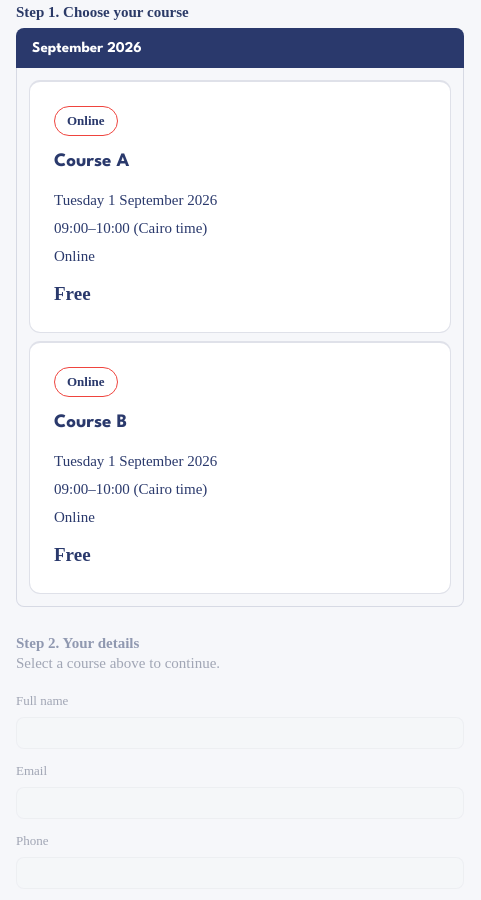
RegistrationExperience — step 1 / step 2 flow › "Change course" returns to the card grid
The width and height of the screenshot is (481, 900).
Click the text "Course A": (92, 162) x1=54 y1=153 x2=129 y2=170
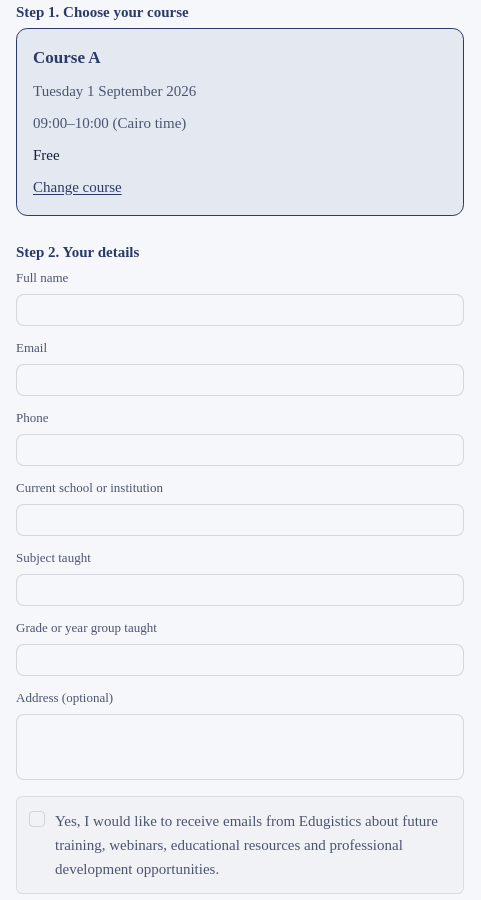
Click the button "Change course": (77, 187) x1=33 y1=175 x2=122 y2=199
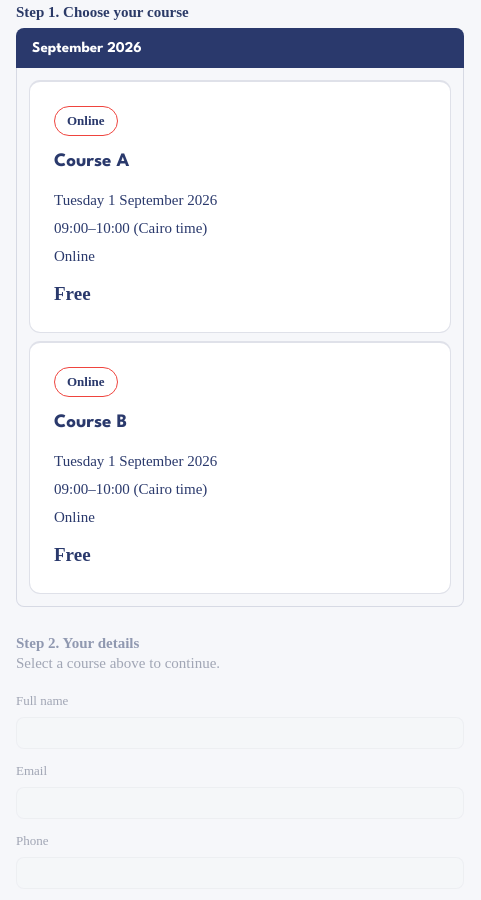
Expected: the text "Select a course above to continue." is shown, x1=16 y1=655 x2=220 y2=671
Expected: the text "Course B" is shown, x1=54 y1=414 x2=127 y2=431
